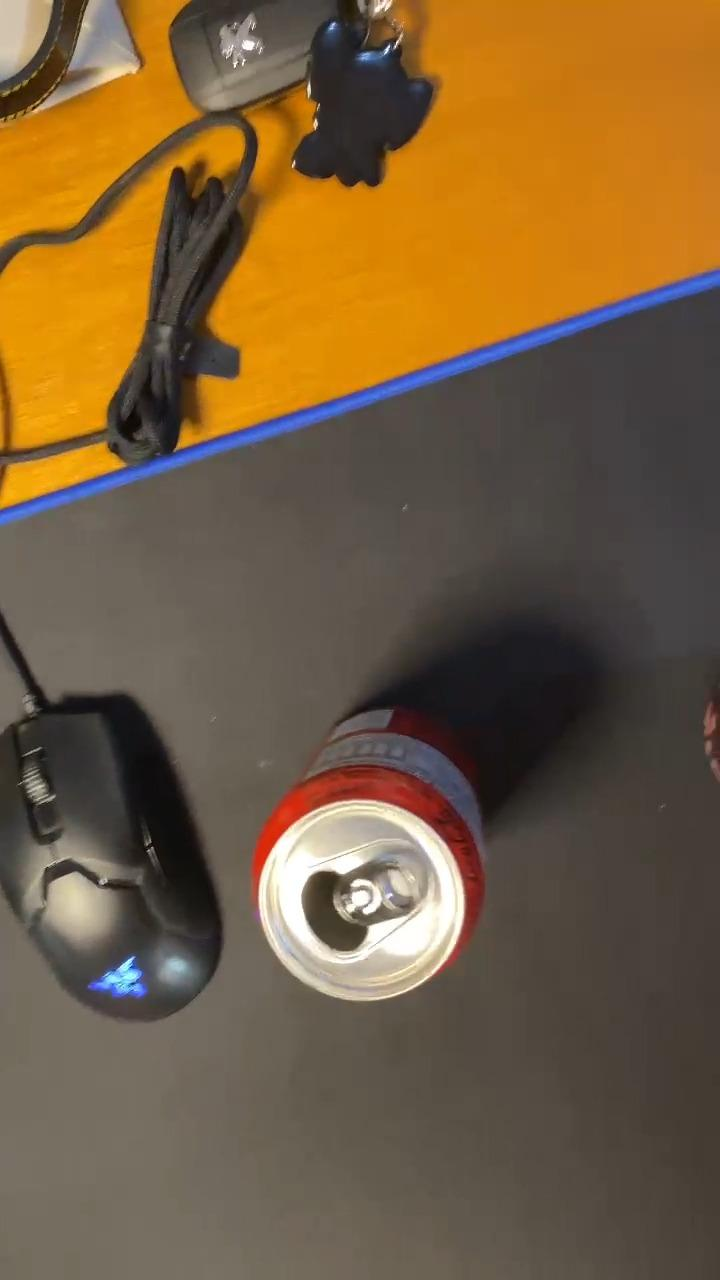coke: (245, 706, 496, 1000)
